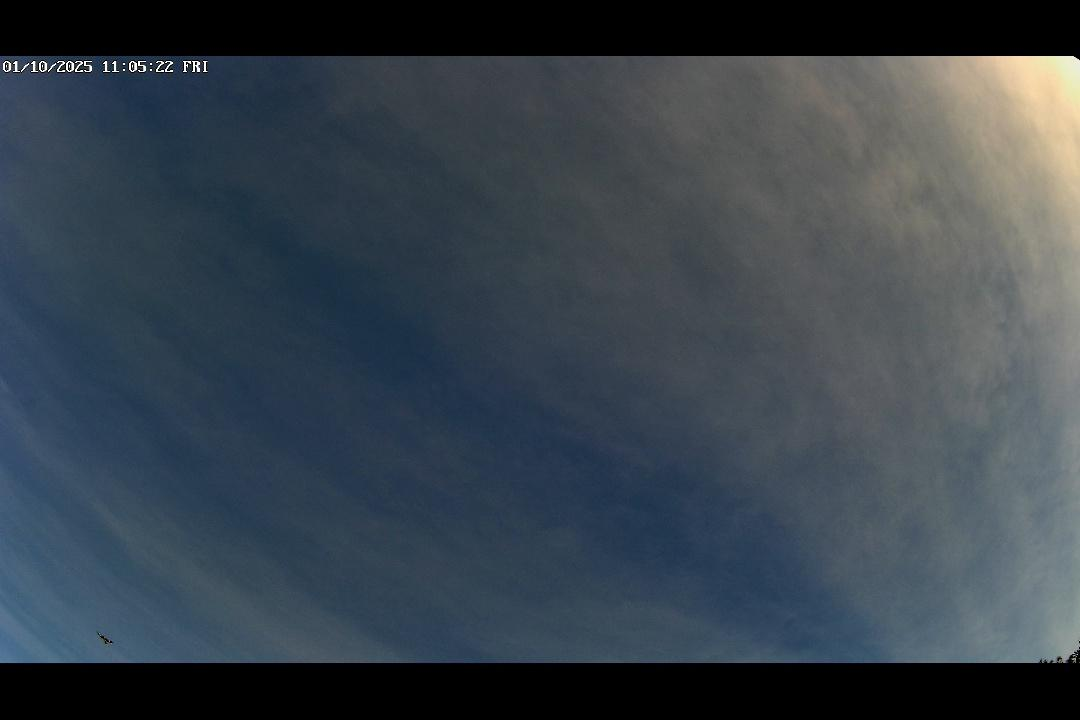WildLife: (83, 628, 125, 651)
